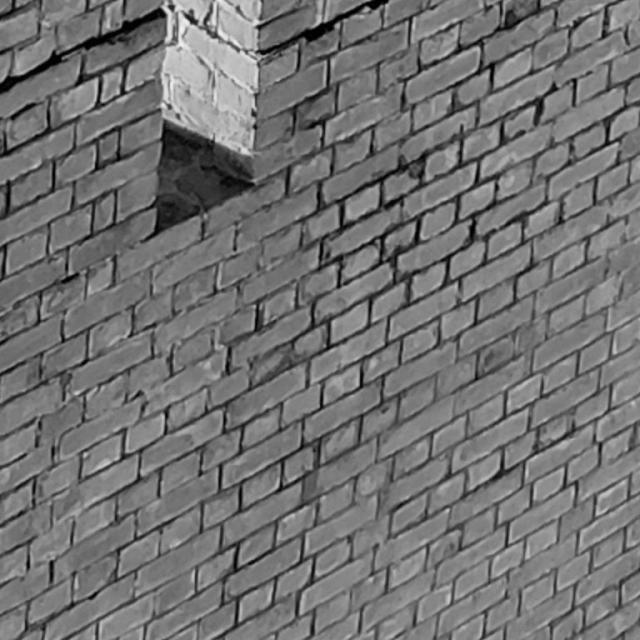crack: (1, 8, 168, 94), (260, 1, 388, 62)
